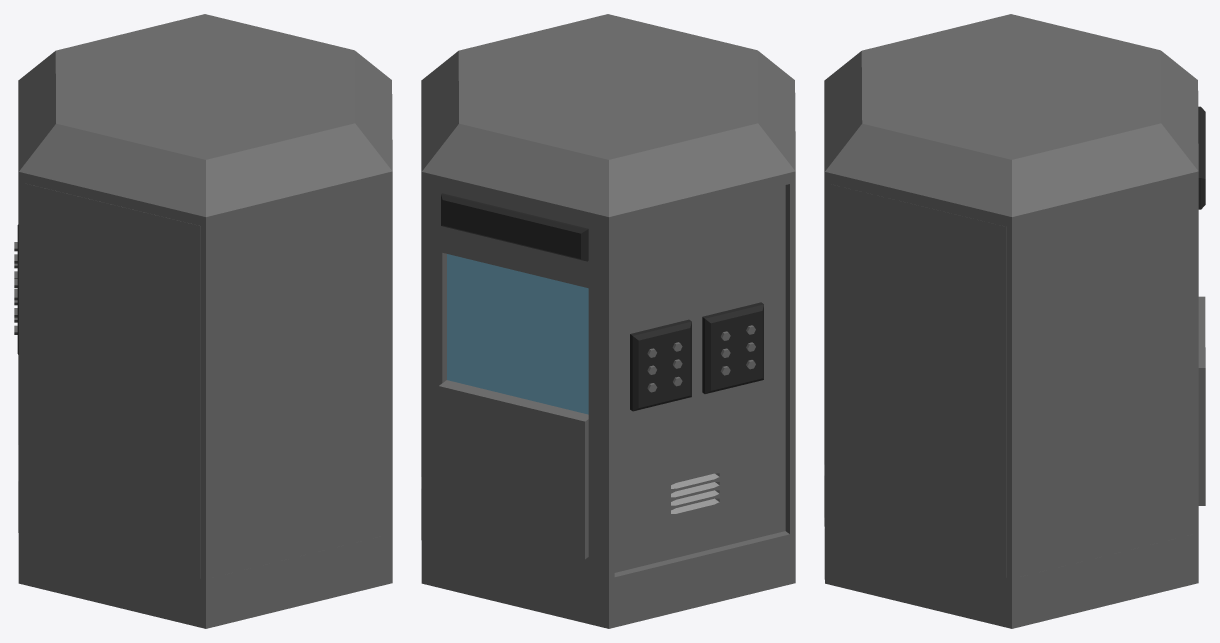
3 views of the same model, side by side, from view 1: azimuth 30°, elevation 25°; view 2: azimuth 150°, elevation 25°; view 3: azimuth 270°, elevation 25° (orthographic).
Parts seen in each view (by area): view 1: group16_group13_pCylinder153; view 2: group16_group13_pCylinder153; view 3: group16_group13_pCylinder153.
Part boxes in pixels (<box>): group16_group13_pCylinder153: <box>14,14,392,628</box>; group16_group13_pCylinder153: <box>421,14,795,628</box>; group16_group13_pCylinder153: <box>824,14,1205,628</box>.
Bounding box in the file's own units: 2.29 × 2.63 × 2.02.
